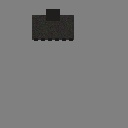personnel: (32, 15, 74, 40)
